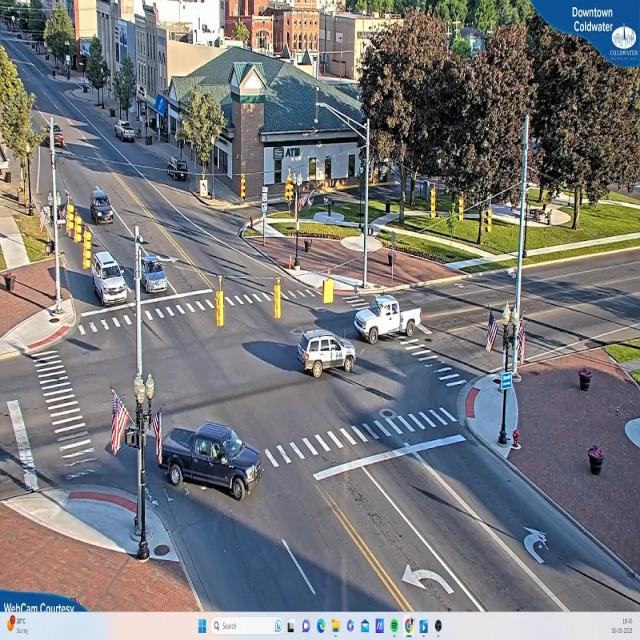car: (164, 421, 262, 501), (350, 297, 420, 344), (296, 330, 354, 378), (91, 250, 130, 308), (143, 252, 169, 299), (90, 189, 115, 225), (164, 157, 190, 180), (116, 123, 136, 142)
